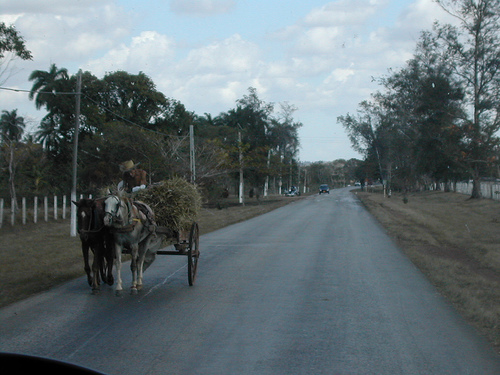horse: (101, 181, 158, 295)
